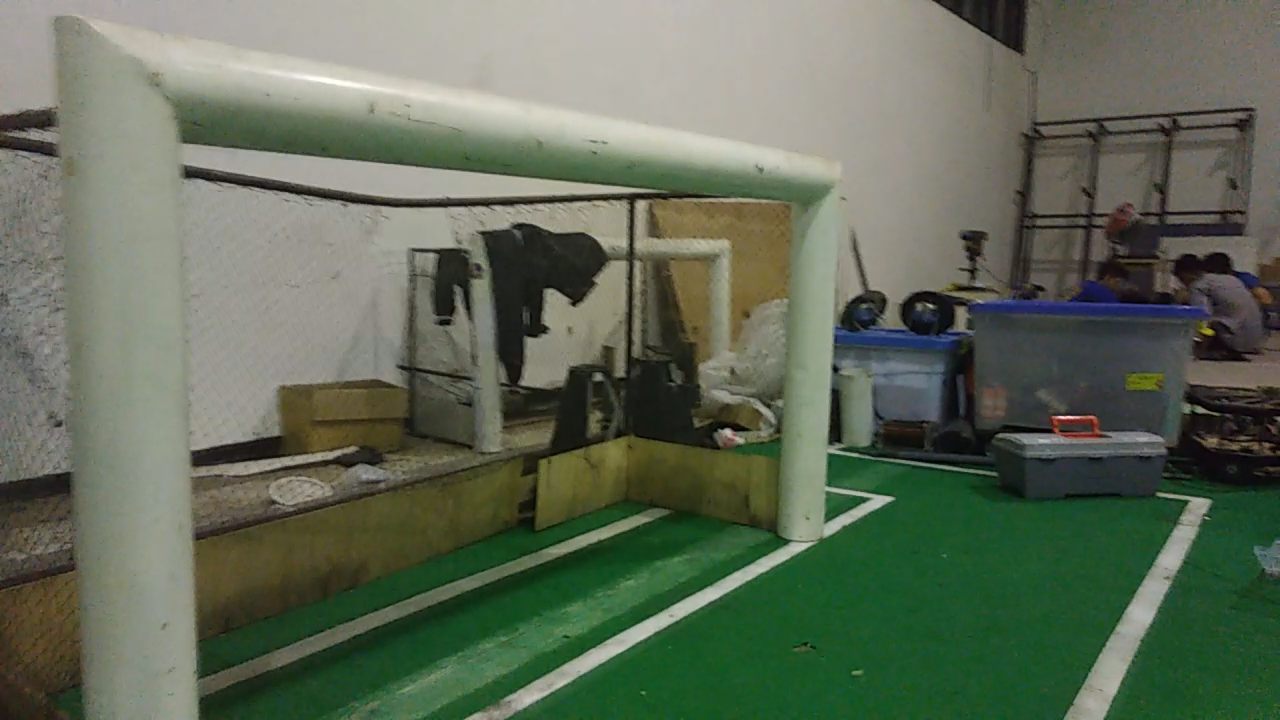gawang: (30, 5, 861, 716)
